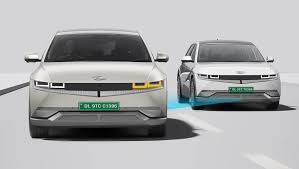Honda Ioniq: (23, 25, 170, 147), (175, 31, 283, 124)
